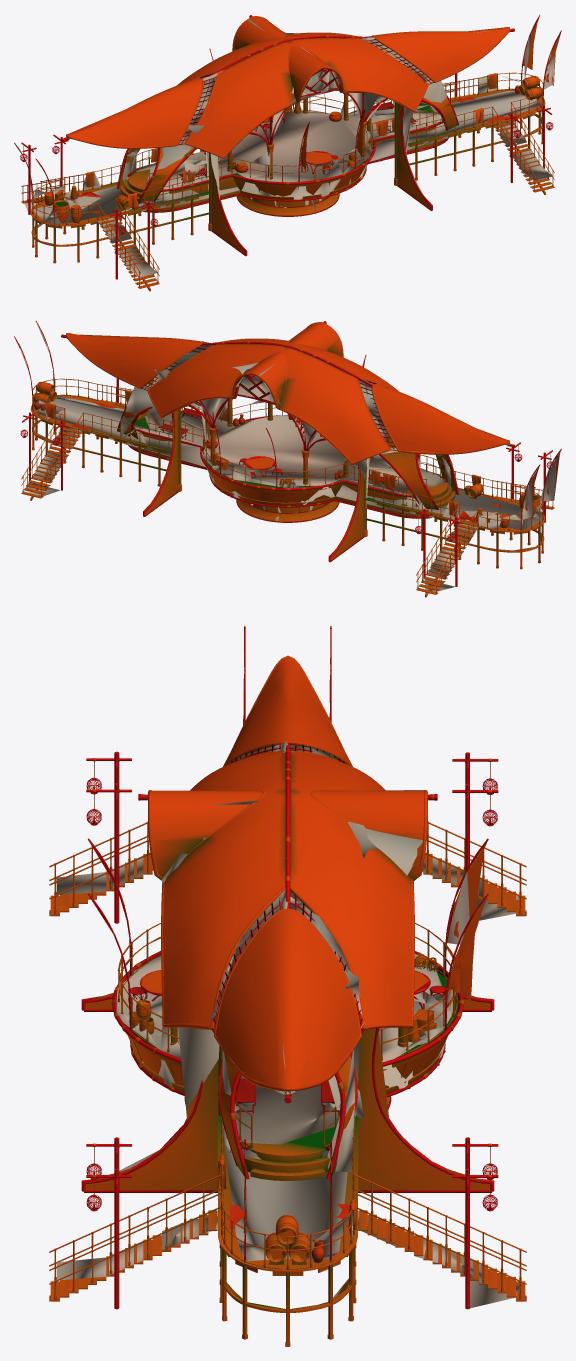
Rendered from KB3D_GAE_BldgMD_G.glb.
3 renders of one model, top to bottom at view 1: azimuth 30°, elevation 25°; view 2: azimuth 150°, elevation 25°; view 3: azimuth 270°, elevation 25°, orthographic. The views are drawn at different scales.
Parts seen in each view (by area): view 1: L0, L2, L1; view 2: L0, L2, L1; view 3: L0, L1, L2.
Boxes of the visible parts, x1,y1,x2,y2 form: L0: (14, 15, 561, 291); L2: (16, 19, 555, 277); L1: (15, 15, 560, 288); L0: (14, 321, 561, 597); L2: (20, 324, 556, 594); L1: (15, 321, 560, 594); L0: (49, 626, 526, 1346); L1: (49, 659, 526, 1343); L2: (56, 742, 526, 1308).
Bounding box in the file's own units: 39.71 × 11.52 × 15.6.
